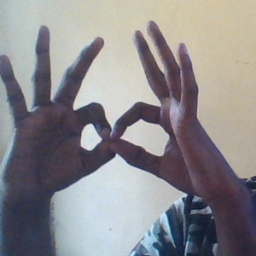B: (58, 79, 176, 178)
